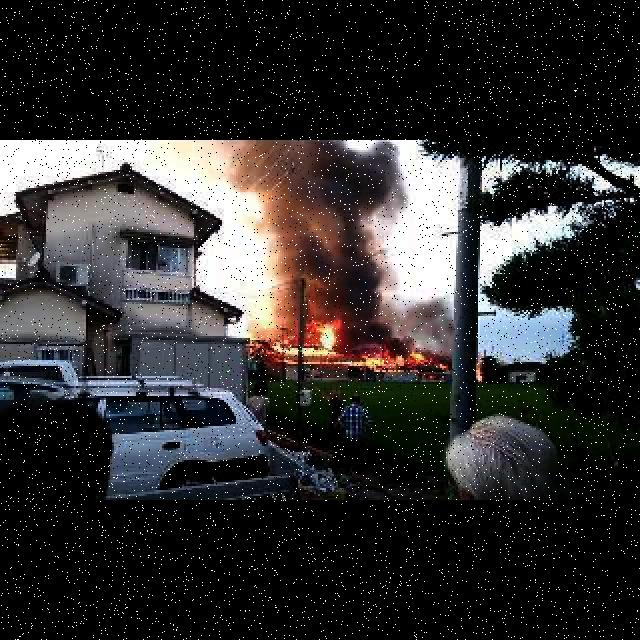fire: (280, 322, 448, 379)
smoke: (243, 140, 471, 332)
